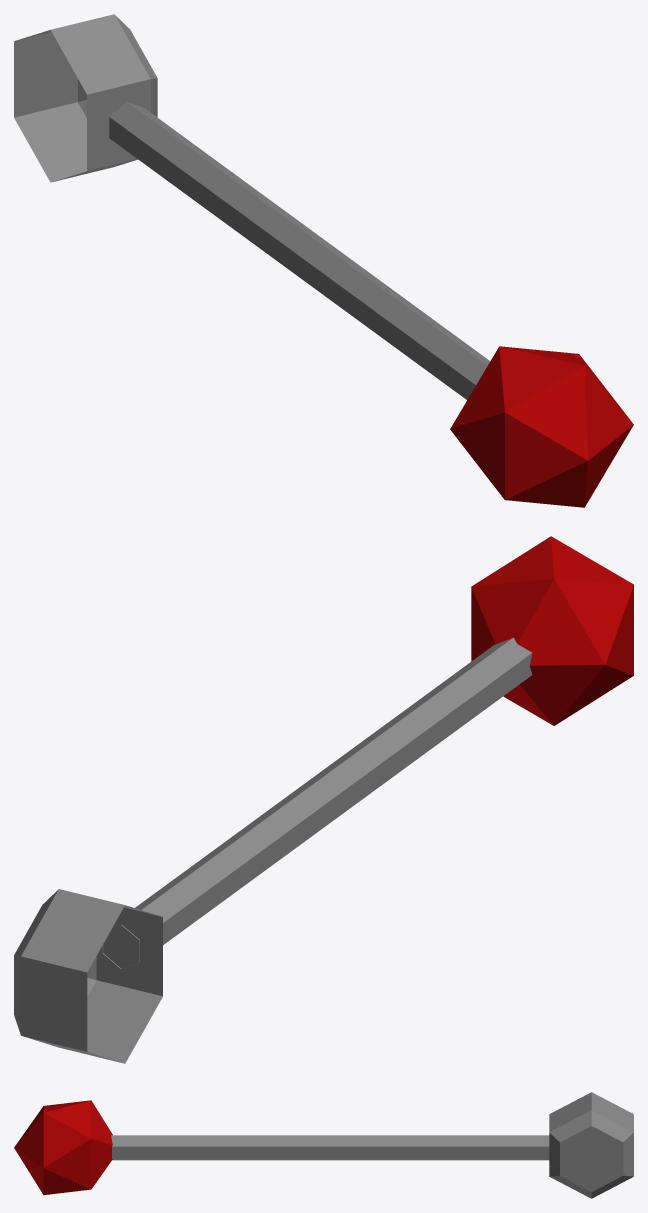
File: Arm.glb
3 views of the same model, one above another, from view 1: azimuth 30°, elevation 25°; view 2: azimuth 150°, elevation 25°; view 3: azimuth 270°, elevation 25° (orthographic). The views are drawn at different scales.
Visible parts, largest first — view 1: Arm; view 2: Arm; view 3: Arm.
Part boxes in pixels (x1,y1,x2,y2): Arm: [14, 14, 633, 507]; Arm: [14, 536, 633, 1063]; Arm: [14, 1092, 633, 1198].
Bounding box in the file's own units: 0.0894 × 0.0915 × 0.5796.
Materials: 1 (1 with a texture image).
